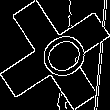O_SW: (22, 23, 88, 87)
